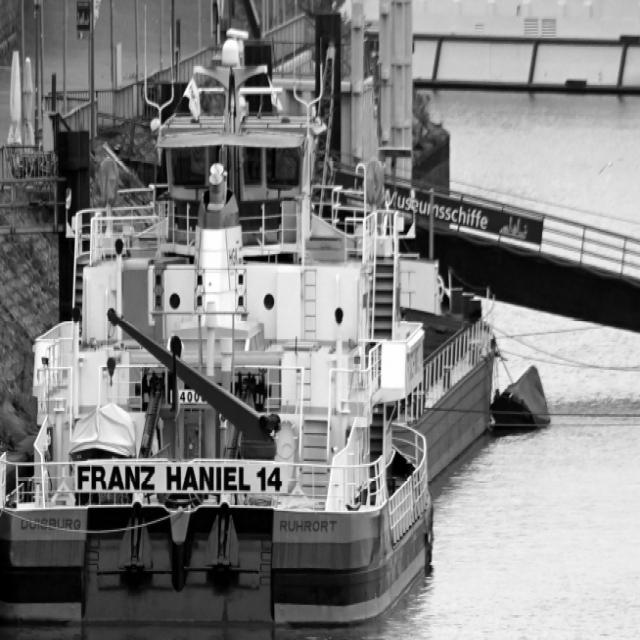tugboat: (1, 23, 443, 640)
